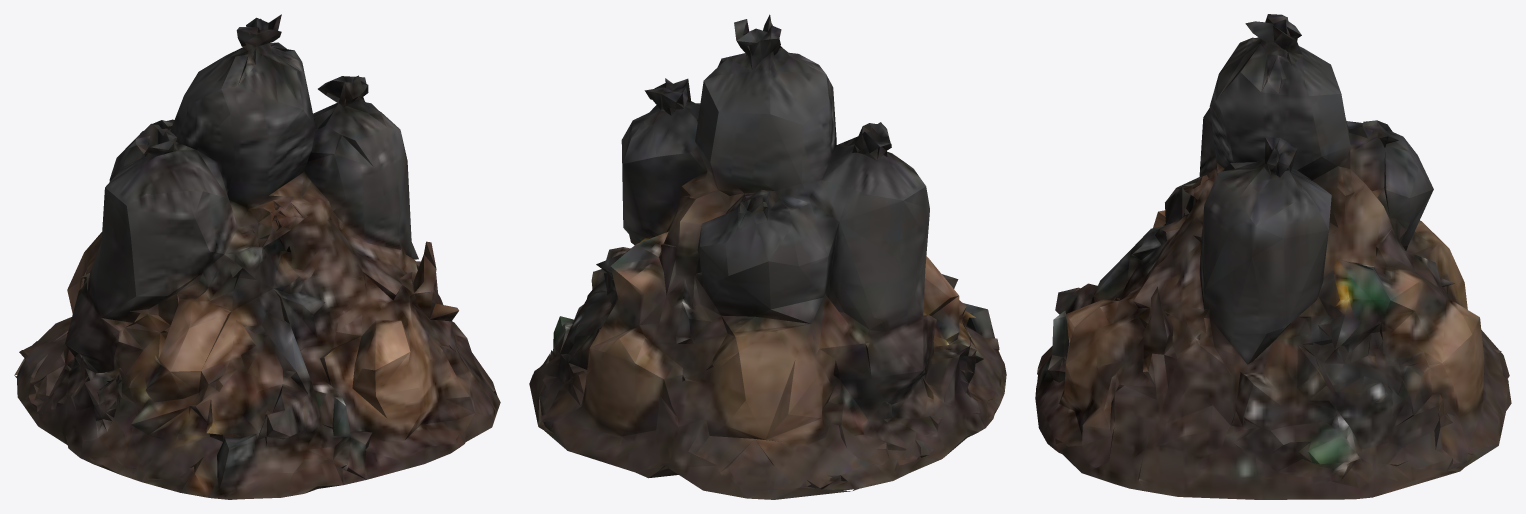
File: street_trash_pile.glb
3 renders of one model, left to right at view 1: azimuth 30°, elevation 25°; view 2: azimuth 150°, elevation 25°; view 3: azimuth 270°, elevation 25°, orthographic. The views are drawn at different scales.
Parts seen in each view (by area): view 1: turn; view 2: turn; view 3: turn.
Part boxes in pixels (x1,y1,x2,y2): turn: (14,14,500,499); turn: (529,14,1006,499); turn: (1035,14,1511,499).
Size of the model in its own units: 1.11 by 1 by 1.12.
1 material, 1 textured.
